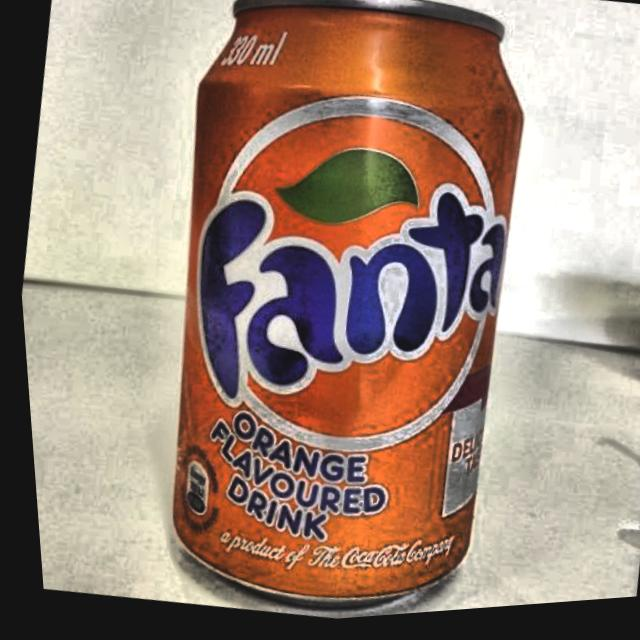Cans: (88, 0, 587, 635)
